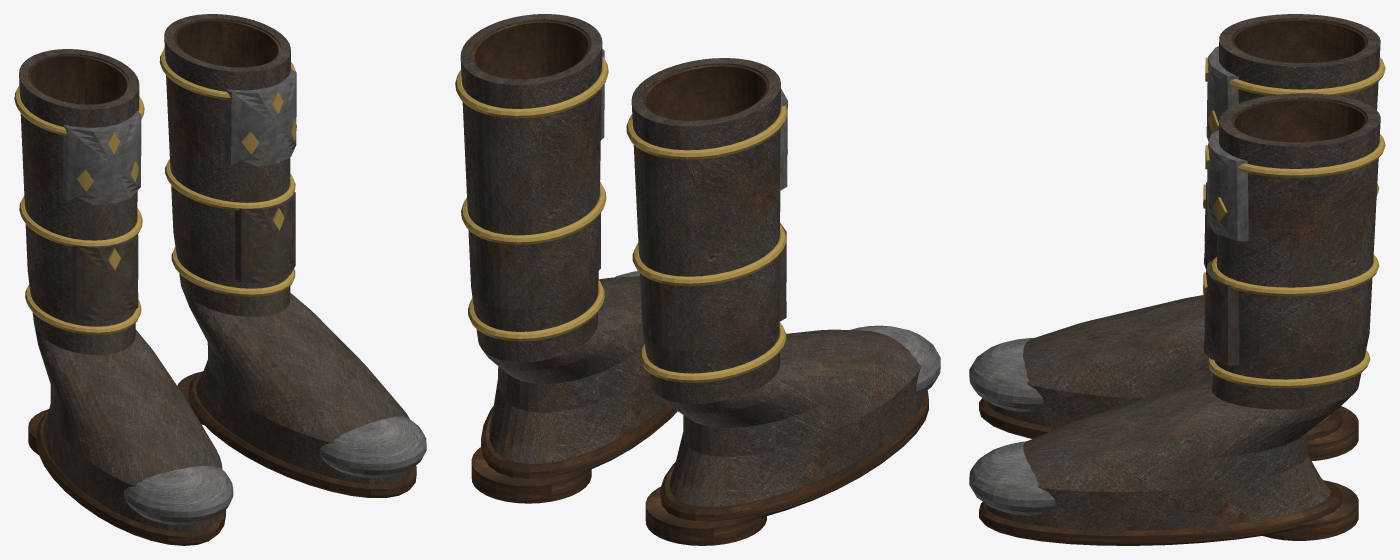
Rendered from heavy.obj.
3 views of the same model, side by side, from view 1: azimuth 30°, elevation 25°; view 2: azimuth 150°, elevation 25°; view 3: azimuth 270°, elevation 25° (orthographic). The views are drawn at different scales.
Visible parts, largest first — view 1: right_upper, left_upper, left_shin_plate, right_shin_plate, left_toe_cap, left_lower_shin, right_toe_cap, right_lower_shin, left_lining, right_lining, right_sole, left_sole (+6 smaller); view 2: left_upper, right_upper, right_lining, left_lining, left_sole, right_sole, right_heel, left_heel, left_band2, right_band2, left_band1, left_toe_cap (+5 smaller); view 3: right_upper, left_upper, right_sole, right_lining, left_lining, right_toe_cap, left_toe_cap, right_shin_plate, right_lower_shin, right_heel, right_band1, left_sole (+6 smaller).
Part boxes in pixels (x1,y1,x2,y2): right_upper: (164, 14, 411, 484); left_upper: (19, 49, 222, 531); left_shin_plate: (63, 111, 141, 204); right_shin_plate: (225, 69, 296, 166); left_toe_cap: (124, 465, 233, 525); left_lower_shin: (72, 233, 138, 321); right_toe_cap: (319, 416, 426, 477); right_lower_shin: (235, 192, 295, 282); left_lining: (28, 55, 129, 104); right_lining: (174, 20, 280, 67); right_sole: (188, 373, 416, 497); left_sole: (36, 413, 225, 545); left_upper: (631, 58, 923, 506); right_upper: (460, 14, 665, 463); right_lining: (471, 21, 591, 79); left_lining: (643, 65, 769, 120); left_sole: (660, 390, 928, 521); right_sole: (481, 404, 677, 478); right_heel: (471, 447, 591, 503); left_heel: (645, 486, 766, 545); left_band2: (626, 105, 787, 159); right_band2: (455, 56, 608, 118); left_band1: (632, 224, 786, 286); left_toe_cap: (850, 325, 940, 395); right_upper: (985, 93, 1380, 530); left_upper: (985, 14, 1380, 428); right_sole: (979, 480, 1342, 545); right_lining: (1231, 99, 1367, 142); left_lining: (1231, 19, 1367, 62); right_toe_cap: (969, 441, 1055, 515); left_toe_cap: (969, 338, 1043, 411); right_shin_plate: (1206, 130, 1248, 241); right_lower_shin: (1204, 258, 1239, 365); right_heel: (1263, 480, 1358, 540); right_band1: (1210, 254, 1379, 296); left_sole: (979, 398, 1342, 441).
Bounding box in the file's own units: 96.22 × 112 × 106.
Materials: 4 (4 with a texture image).
